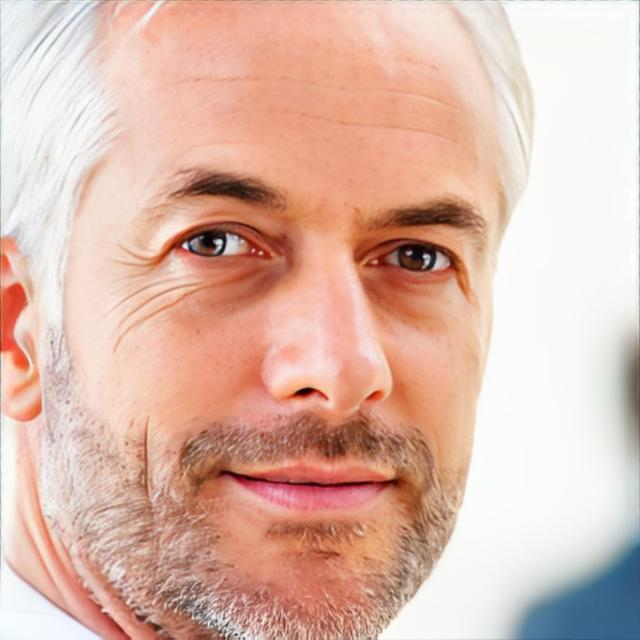content: (42, 0, 506, 640)
